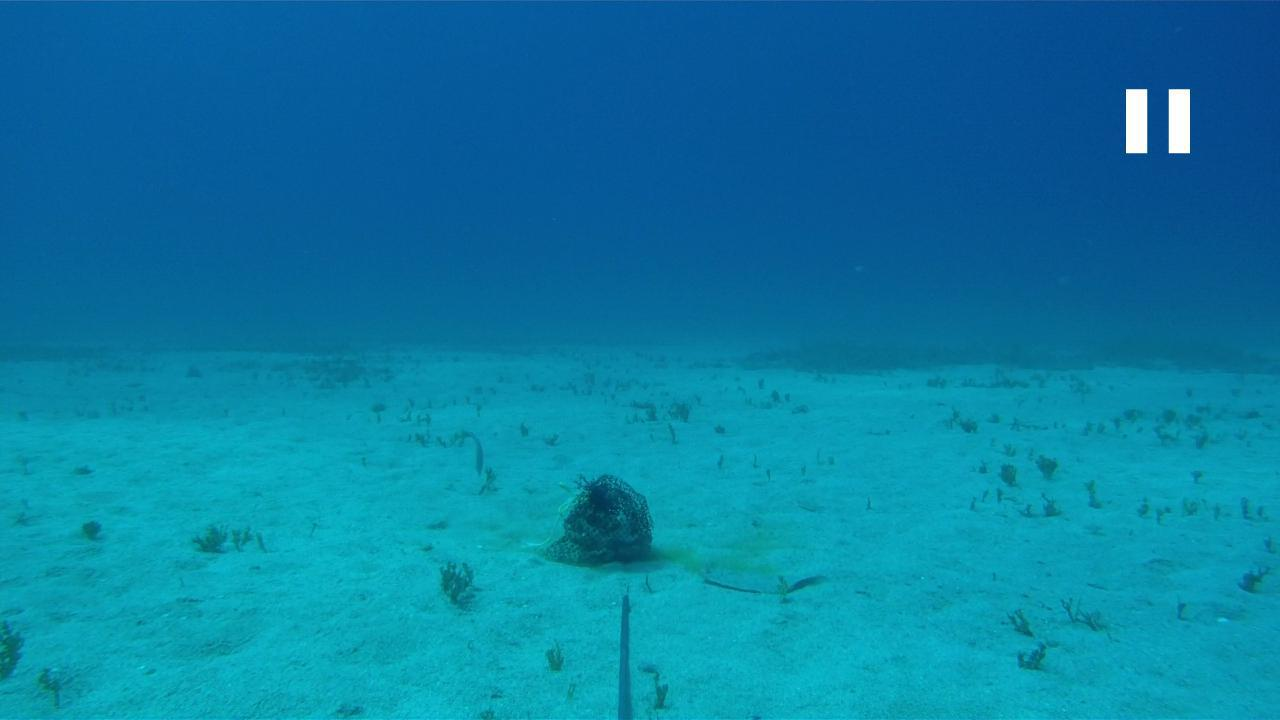bothus: (693, 560, 823, 597)
